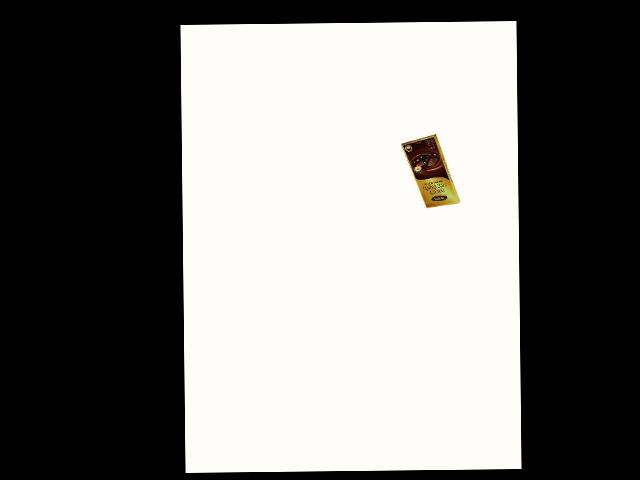chocolate: (401, 127, 462, 208)
